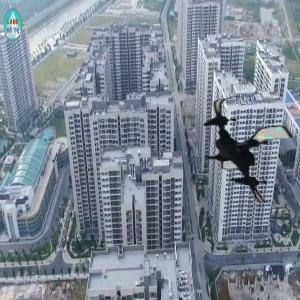drone: (191, 96, 300, 205)
